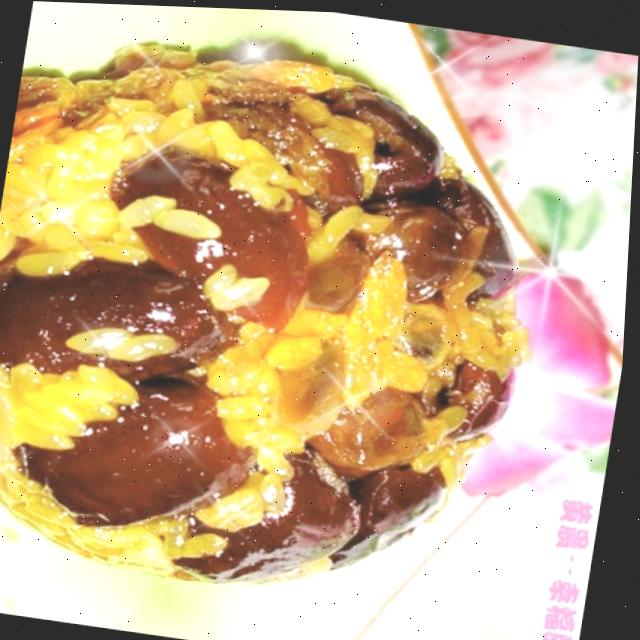米饭主食: (0, 3, 588, 639)
